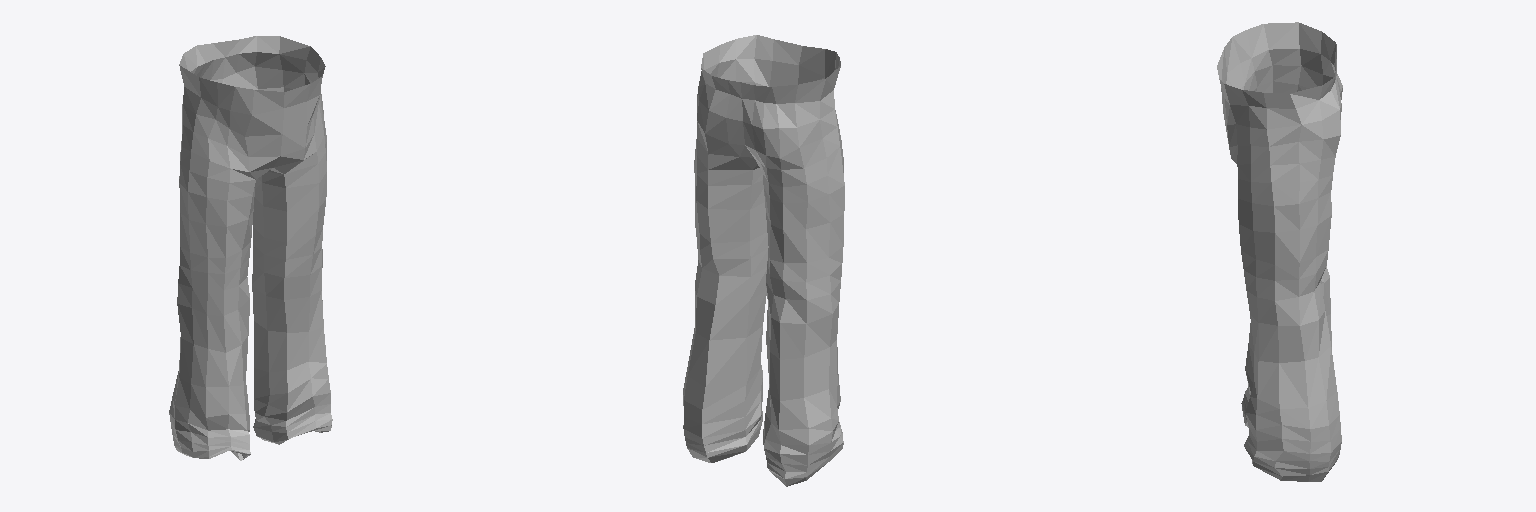
Rendered from Uth_Pants_MshShape.obj.
The picture shows the model from 3 angles: view 1: azimuth 30°, elevation 25°; view 2: azimuth 150°, elevation 25°; view 3: azimuth 270°, elevation 25°; orthographic projection.
Visible parts, largest first — view 1: Uth_Pants_Msh Uth_Body_Grp SkinnedMesh Mesh CharacterRoot; view 2: Uth_Pants_Msh Uth_Body_Grp SkinnedMesh Mesh CharacterRoot; view 3: Uth_Pants_Msh Uth_Body_Grp SkinnedMesh Mesh CharacterRoot.
Part boxes in pixels (left/top/right/bottom): Uth_Pants_Msh Uth_Body_Grp SkinnedMesh Mesh CharacterRoot: left=169, top=36, right=332, bottom=460; Uth_Pants_Msh Uth_Body_Grp SkinnedMesh Mesh CharacterRoot: left=683, top=35, right=844, bottom=486; Uth_Pants_Msh Uth_Body_Grp SkinnedMesh Mesh CharacterRoot: left=1217, top=22, right=1342, bottom=481.
Size of the model in its own units: 43.22 by 113 by 32.38.